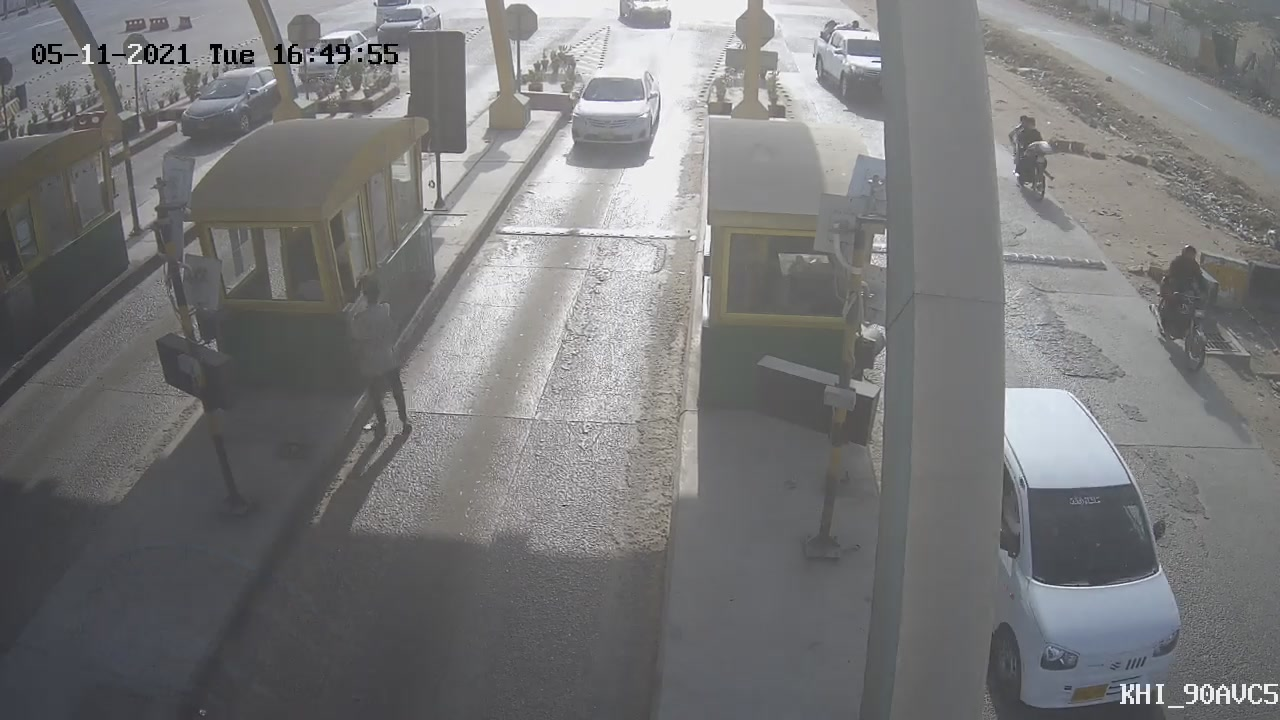F1: (551, 52, 674, 170)
